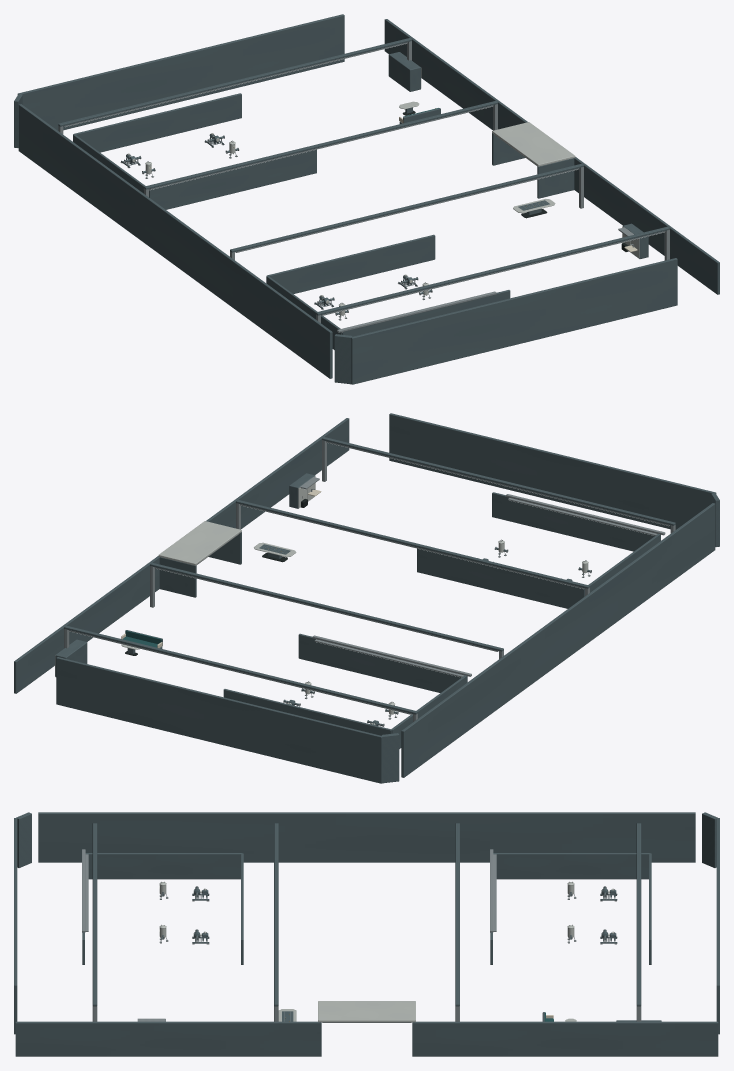
File: SOL_D02_directory_03_source001.glb
3 renders of one model, top to bottom at view 1: azimuth 30°, elevation 25°; view 2: azimuth 150°, elevation 25°; view 3: azimuth 270°, elevation 25°, orthographic. The views are drawn at different scales.
Parts seen in each view (by area): view 1: A_edge1, A_back, A_edge-1, A_inward_screen1, A_filter_court1_side_a, A_filter_court0_side_a, A_filter_court0_side_b, A_inward_screen-1, A_arrival_lintel, A_working_rib1_beam, A_working_rib0_beam, A_working_rib3_beam (+12 smaller); view 2: A_edge-1, A_back, A_edge1, A_inward_screen-1, A_filter_court1_side_a, A_inward_screen1, A_filter_court0_side_b, A_filter_court1_side_b, A_arrival_lintel, A_working_rib2_beam, A_working_rib3_beam, A_working_rib0_beam (+12 smaller); view 3: A_back, A_inward_screen-1, A_inward_screen1, A_filter_court0_rear, A_filter_court1_rear, A_arrival_lintel, A_working_rib0_beam, A_working_rib3_beam, A_working_rib1_beam, A_working_rib2_beam, A_edge-1, A_edge1 (+2 smaller).
Part boxes in pixels (box(x1,y1,x2,y2)): A_edge1: box(351, 258, 677, 384); A_back: box(18, 104, 332, 378); A_edge-1: box(17, 14, 344, 130); A_inward_screen1: box(574, 157, 719, 294); A_filter_court1_side_a: box(267, 234, 435, 293); A_filter_court0_side_a: box(73, 93, 241, 152); A_filter_court0_side_b: box(149, 149, 316, 209); A_inward_screen-1: box(384, 19, 527, 129); A_arrival_lintel: box(492, 122, 575, 166); A_working_rib1_beam: box(144, 101, 497, 189); A_working_rib0_beam: box(58, 38, 411, 126); A_working_rib3_beam: box(316, 226, 669, 315); A_edge-1: box(56, 657, 382, 783); A_back: box(401, 503, 715, 777); A_edge1: box(389, 413, 716, 529); A_inward_screen-1: box(14, 556, 159, 693); A_filter_court1_side_a: box(417, 548, 584, 608); A_inward_screen1: box(206, 418, 349, 528); A_filter_court0_side_b: box(298, 633, 460, 692); A_filter_court1_side_b: box(492, 492, 654, 551); A_arrival_lintel: box(158, 521, 241, 565); A_working_rib2_beam: box(236, 500, 589, 588); A_working_rib3_beam: box(322, 437, 675, 525); A_working_rib0_beam: box(64, 625, 417, 714); A_back: box(38, 812, 695, 862); A_inward_screen-1: box(412, 1021, 718, 1056); A_inward_screen1: box(15, 1021, 321, 1056); A_filter_court0_rear: box(493, 853, 649, 879); A_filter_court1_rear: box(85, 853, 241, 879); A_arrival_lintel: box(318, 1001, 415, 1022); A_working_rib0_beam: box(636, 823, 641, 1006); A_working_rib3_beam: box(92, 823, 97, 1006); A_working_rib1_beam: box(455, 823, 459, 1006); A_working_rib2_beam: box(274, 823, 278, 1006); A_edge-1: box(716, 818, 719, 1034); A_edge1: box(14, 818, 17, 1034).
Size of the model in its own units: 40.79 by 4.8 by 62.3.
Materials: 48 (48 with a texture image).
